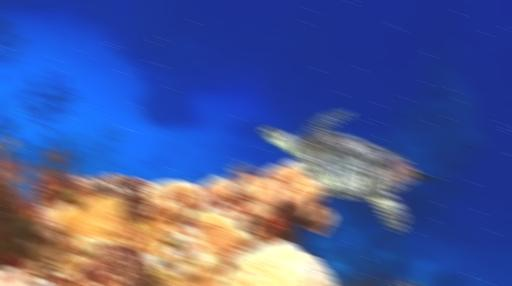Fish: (260, 110, 430, 232)
